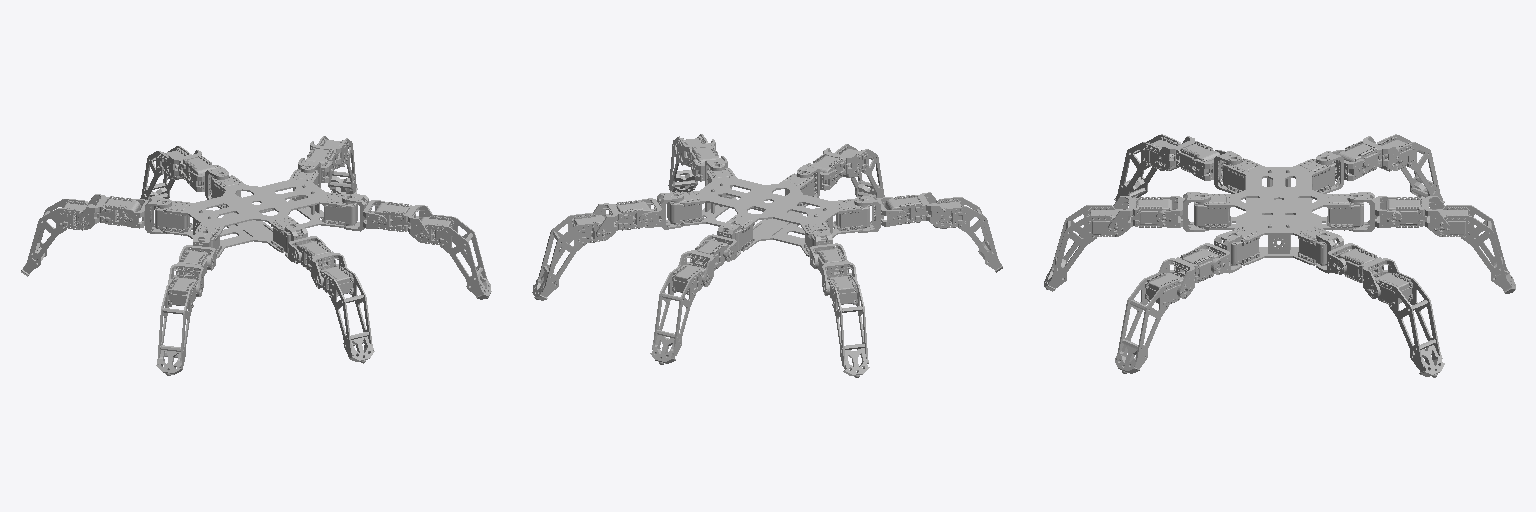
--- Render facts (derived) ---
3 views of the same robot in one strip: view 1: azimuth 30°, elevation 25°; view 2: azimuth 150°, elevation 25°; view 3: azimuth 270°, elevation 25° (orthographic).
Model hexapod with 20 links and 19 joints (18 revolute, 1 fixed), rooted at base, posed every joint at zero.
Visible links, largest first — view 1: torso, RM_foot, RF_foot, RB_foot, LB_foot, RF_calf, LB_calf, LM_foot, RM_calf, LF_foot, LB_thigh, RB_calf (+7 smaller); view 2: torso, LM_foot, LF_foot, LB_foot, RB_foot, LF_calf, RB_calf, RM_foot, LM_calf, RB_thigh, RF_foot, LB_calf (+7 smaller); view 3: torso, LF_foot, RF_foot, LM_foot, RM_foot, LB_foot, RB_foot, RM_calf, LM_calf, RF_calf, LF_calf, LB_calf (+7 smaller).
Boxes of the visible links, <box> form: torso: <box>155,169,357,258</box>; RM_foot: <box>320,266,374,363</box>; RF_foot: <box>421,215,491,299</box>; RB_foot: <box>156,277,197,375</box>; LB_foot: <box>21,199,97,276</box>; RF_calf: <box>374,202,432,242</box>; LB_calf: <box>76,194,139,229</box>; LM_foot: <box>140,146,191,209</box>; RM_calf: <box>297,241,346,288</box>; LF_foot: <box>317,136,357,193</box>; LB_thigh: <box>119,197,171,233</box>; RB_calf: <box>168,250,207,296</box>; torso: <box>667,168,869,256</box>; LM_foot: <box>650,265,705,364</box>; LF_foot: <box>532,213,608,300</box>; LB_foot: <box>828,276,869,377</box>; RB_foot: <box>928,197,1002,272</box>; LF_calf: <box>593,200,651,240</box>; RB_calf: <box>885,192,948,228</box>; RM_foot: <box>835,144,884,205</box>; LM_calf: <box>678,240,728,286</box>; RB_thigh: <box>854,195,906,232</box>; RF_foot: <box>668,134,707,192</box>; LB_calf: <box>817,249,857,295</box>; torso: <box>1194,158,1363,265</box>; LF_foot: <box>1375,272,1444,377</box>; RF_foot: <box>1115,272,1183,373</box>; LM_foot: <box>1435,205,1515,293</box>; RM_foot: <box>1044,205,1122,291</box>; LB_foot: <box>1377,134,1444,206</box>; RB_foot: <box>1114,134,1180,205</box>; RM_calf: <box>1108,196,1172,236</box>; LM_calf: <box>1386,196,1449,236</box>; RF_calf: <box>1158,248,1219,298</box>; LF_calf: <box>1338,248,1398,298</box>; LB_calf: <box>1338,136,1402,173</box>.
Bounding box of the posed robot: 0.5707 × 0.6368 × 0.1445 m (x, y, z).
19 mesh visuals loaded from 19 distinct referenced files (19 OBJ).

robot.urdf — hexapod:
<?xml version="1.0" encoding="utf-8"?>
<robot name="hexapod">
    <link name="base"/>
    <joint name="dummy_joint" type="fixed">
        <origin rpy="1.570796 0 1.570796" xyz="0 0 0"/>
        <parent link="base"/>
        <child link="torso"/>
    </joint>
    <link
    name="torso">
    <inertial>
      <origin
        xyz="0 0 0"
        rpy="0 0 0" />
      <mass
        value="1.025" />
      <inertia
        ixx="0.002323462144782"
        ixy="3.86534870772354E-16"
        ixz="-3.67978622631809E-08"
        iyy="0.003122018499844"
        iyz="-2.05585565888366E-10"
        izz="0.000889001808" />
    </inertial>
    <visual>
      <origin
        xyz="0 0 0"
        rpy="0 0 0" />
      <geometry>
        <mesh
          filename="../meshes/torso.obj" />
      </geometry>
      <material
        name="">
        <color
          rgba="0.752941176470588 0.752941176470588 0.752941176470588 1" />
      </material>
    </visual>
    <collision>
      <origin
        xyz="0 0.017 0"
        rpy="0 0 0" />
      <geometry>
        <box size="0.090 0.035 0.215"/>
      </geometry>
    </collision>
  </link>
  <link
    name="LF_thigh">
    <inertial>
      <origin
        xyz="-0.0189187135333139 0.000478712531283593 -0.0260043189660494"
        rpy="0 0 0" />
      <mass
        value="0.028" />
      <inertia
        ixx="0.7716368555680E-05"
        ixy="-3.58867901756449E-12"
        ixz="1.63311707947920E-10"
        iyy="0.77163683718519E-05"
        iyz="1.53973688531932E-10"
        izz="0.98994457442574E-05" />
    </inertial>
    <visual>
      <origin
        xyz="0 0 0"
        rpy="0 0 0" />
      <geometry>
        <mesh
          filename="../meshes/LF_thigh.obj" />
      </geometry>
      <material
        name="">
        <color
          rgba="0.752941176470588 0.752941176470588 0.752941176470588 1" />
      </material>
    </visual>

  </link>
  <joint
    name="LF1"
    type="revolute">
    <origin
      xyz="0.06091 0 0.12191"
      rpy="2.3562 0 -1.5708" />
    <parent
      link="torso" />
    <child
      link="LF_thigh" />
    <axis
      xyz="1 0 0" />
    <limit
      lower="-1.0"
      upper="1.0"
      effort="1.5"
      velocity="4.31439" />
  </joint>
  <link
    name="LF_calf">
    <inertial>
      <origin
        xyz="0.0011883822058934 -0.0257706902685676 -0.000595468171442112"
        rpy="0 0 0" />
      <mass
        value="0.075" />
      <inertia
        ixx="2.2057805943165E-05"
        ixy="6.42714269148782E-07"
        ixz="-1.73768559657373E-09"
        iyy="1.64333993719858E-05"
        iyz="-2.25537955367849E-07"
        izz="1.53785208661349E-05" />
    </inertial>
    <visual>
      <origin
        xyz="0 0 0"
        rpy="0 0 0" />
      <geometry>
        <mesh
          filename="../meshes/LF_calf.obj" />
      </geometry>
      <material
        name="">
        <color
          rgba="0.752941176470588 0.752941176470588 0.752941176470588 1" />
      </material>
    </visual>
    <collision>
      <origin
        xyz="0 -0.018 0"
        rpy="0 0 0" />
      <geometry>
        <box size="0.027 0.052 0.035"/>
      </geometry>
    </collision>
  </link>
  <joint
    name="LF2"
    type="revolute">
    <origin
      xyz="-0.01844 0 -0.052"
      rpy="1.5708 0 0" />
    <parent
      link="LF_thigh" />
    <child
      link="LF_calf" />
    <axis
      xyz="0 0 1" />
    <limit
      lower="-1.0"
      upper="1.0"
      effort="1.5"
      velocity="4.31439" />
  </joint>
  <link
    name="LF_foot">
    <inertial>
      <origin
        xyz="0.0260368249252049 -0.0404597860340416 -0.000363415281257676"
        rpy="0 0 0" />
      <mass
        value="0.09" />
      <inertia
        ixx="2.4116613548742E-05"
        ixy="1.17280739299485E-05"
        ixz="-1.6483422082338E-09"
        iyy="3.1758057318314E-05"
        iyz="-2.10963891116381E-07"
        izz="4.29929254178485E-05" />
    </inertial>
    <visual>
      <origin
        xyz="0 0 0"
        rpy="0 0 0" />
      <geometry>
        <mesh
          filename="../meshes/LF_foot.obj" />
      </geometry>
      <material
        name="">
        <color
          rgba="0.752941176470588 0.752941176470588 0.752941176470588 1" />
      </material>
    </visual>
    <collision>
      <origin
        xyz="0 -0.018 0"
        rpy="0 0 0" />
      <geometry>
        <box size="0.027 0.052 0.035"/>
      </geometry>
    </collision>
    <collision>
      <origin
        xyz="0.040 -0.055 0"
        rpy="0 0 -0.585" />
      <geometry>
        <box size="0.12 0.008 0.035"/>
      </geometry>
    </collision>
    <collision>
      <origin
        xyz="0.045 -0.077 0"
        rpy="0 0 -0.28" />
      <geometry>
        <box size="0.09 0.008 0.035"/>
      </geometry>
    </collision>
    <collision>
      <origin
        xyz="-0.0025 -0.054 0"
        rpy="0 0 -1.05" />
      <geometry>
        <box size="0.030 0.0085 0.035"/>
      </geometry>
    </collision>
    <collision>
      <origin xyz="0.102 -0.0940 0.0"/>
        <geometry>
            <sphere radius="0.0040"/>
        </geometry>
    </collision>
  </link>
  <joint
    name="LF3"
    type="revolute">
    <origin
      xyz="0.014589 -0.06443 0"
      rpy="0 0 0.003125" />
    <parent
      link="LF_calf" />
    <child
      link="LF_foot" />
    <axis
      xyz="0 0 1" />
    <limit
      lower="-1.0"
      upper="1.0"
      effort="1.5"
      velocity="4.31439" />
  </joint>
  <link
    name="LM_thigh">
    <inertial>
      <origin
        xyz="-0.0189187144776559 0.000478714468876692 -0.0260043724674276"
        rpy="0 0 0" />
      <mass
        value="0.028" />
      <inertia
        ixx="0.7716368555680E-05"
        ixy="-3.58867901756449E-12"
        ixz="1.63311707947920E-10"
        iyy="0.77163683718519E-05"
        iyz="1.53973688531932E-10"
        izz="0.98994457442574E-05" />
    </inertial>
    <visual>
      <origin
        xyz="0 0 0"
        rpy="0 0 0" />
      <geometry>
        <mesh
          filename="../meshes/LM_thigh.obj" />
      </geometry>
      <material
        name="">
        <color
          rgba="0.752941176470588 0.752941176470588 0.752941176470588 1" />
      </material>
    </visual>
  </link>
  <joint
    name="LM1"
    type="revolute">
    <origin
      xyz="0.1035 0 0"
      rpy="1.5708 0 -1.5708" />
    <parent
      link="torso" />
    <child
      link="LM_thigh" />
    <axis
      xyz="1 0 0" />
    <limit
      lower="-1.0"
      upper="1.0"
      effort="1.5"
      velocity="4.31439" />
  </joint>
  <link
    name="LM_calf">
    <inertial>
      <origin
        xyz="0.00118838231960932 -0.025770698950229 -0.000595469030781378"
        rpy="0 0 0" />
      <mass
        value="0.075" />
      <inertia
        ixx="2.2057805943165E-05"
        ixy="6.42714269148782E-07"
        ixz="-1.73768559657373E-09"
        iyy="1.64333993719858E-05"
        iyz="-2.25537955367849E-07"
        izz="1.53785208661349E-05" />
    </inertial>
    <visual>
      <origin
        xyz="0 0 0"
        rpy="0 0 0" />
      <geometry>
        <mesh
          filename="../meshes/LM_calf.obj" />
      </geometry>
      <material
        name="">
        <color
          rgba="0.752941176470588 0.752941176470588 0.752941176470588 1" />
      </material>
    </visual>
    <collision>
      <origin
        xyz="0 -0.018 0"
        rpy="0 0 0" />
      <geometry>
        <box size="0.027 0.052 0.035"/>
      </geometry>
    </collision>
  </link>
  <joint
    name="LM2"
    type="revolute">
    <origin
      xyz="-0.01844 0 -0.052"
      rpy="1.5708 0 0" />
    <parent
      link="LM_thigh" />
    <child
      link="LM_calf" />
    <axis
      xyz="0 0 1" />
    <limit
      lower="-1.0"
      upper="1.0"
      effort="1.5"
      velocity="4.31439" />
  </joint>
  <link
    name="LM_foot">
    <inertial>
      <origin
        xyz="0.0260368352823269 -0.0404597921966018 -0.000363415322185633"
        rpy="0 0 0" />
      <mass
        value="0.09" />
      <inertia
        ixx="2.4116613548742E-05"
        ixy="1.17280739299485E-05"
        ixz="-1.6483422082338E-09"
        iyy="3.1758057318314E-05"
        iyz="-2.10963891116381E-07"
        izz="4.29929254178485E-05" />
    </inertial>
    <visual>
      <origin
        xyz="0 0 0"
        rpy="0 0 0" />
      <geometry>
        <mesh
          filename="../meshes/LM_foot.obj" />
      </geometry>
      <material
        name="">
        <color
          rgba="0.752941176470588 0.752941176470588 0.752941176470588 1" />
      </material>
    </visual>
    <collision>
      <origin
        xyz="0 -0.018 0"
        rpy="0 0 0" />
      <geometry>
        <box size="0.027 0.052 0.035"/>
      </geometry>
    </collision>
    <collision>
      <origin
        xyz="0.040 -0.055 0"
        rpy="0 0 -0.585" />
      <geometry>
        <box size="0.12 0.008 0.035"/>
      </geometry>
    </collision>
    <collision>
      <origin
        xyz="0.045 -0.077 0"
        rpy="0 0 -0.28" />
      <geometry>
        <box size="0.09 0.008 0.035"/>
      </geometry>
    </collision>
    <collision>
      <origin
        xyz="-0.0025 -0.054 0"
        rpy="0 0 -1.05" />
      <geometry>
        <box size="0.030 0.0085 0.035"/>
      </geometry>
    </collision>
    <collision>
      <origin xyz="0.102 -0.0940 0.0"/>
        <geometry>
            <sphere radius="0.0040"/>
        </geometry>
    </collision>
  </link>
  <joint
    name="LM3"
    type="revolute">
    <origin
      xyz="0.014589 -0.06443 0"
      rpy="0 0 0.003125" />
    <parent
      link="LM_calf" />
    <child
      link="LM_foot" />
    <axis
      xyz="0 0 1" />
    <limit
      lower="-1.0"
      upper="1.0"
      effort="1.5"
      velocity="4.31439" />
  </joint>
  <link
    name="LB_thigh">
    <inertial>
      <origin
        xyz="-0.0189187135333139 0.000478712531283773 -0.0260043189660493"
        rpy="0 0 0" />
      <mass
        value="0.028" />
      <inertia
        ixx="0.7716368555680E-05"
        ixy="-3.58867901756449E-12"
        ixz="1.63311707947920E-10"
        iyy="0.77163683718519E-05"
        iyz="1.53973688531932E-10"
        izz="0.98994457442574E-05" />
    </inertial>
    <visual>
      <origin
        xyz="0 0 0"
        rpy="0 0 0" />
      <geometry>
        <mesh
          filename="../meshes/LB_thigh.obj" />
      </geometry>
      <material
        name="">
        <color
          rgba="0.752941176470588 0.752941176470588 0.752941176470588 1" />
      </material>
    </visual>

  </link>
  <joint
    name="LB1"
    type="revolute">
    <origin
      xyz="0.06091 0 -0.12191"
      rpy="0.7854 0 -1.5708" />
    <parent
      link="torso" />
    <child
      link="LB_thigh" />
    <axis
      xyz="1 0 0" />
    <limit
      lower="-1.0"
      upper="1.0"
      effort="1.5"
      velocity="4.31439" />
  </joint>
  <link
    name="LB_calf">
    <inertial>
      <origin
        xyz="0.00118838220589342 -0.0257706902685676 -0.000595468171442057"
        rpy="0 0 0" />
      <mass
        value="0.075" />
      <inertia
        ixx="2.2057805943165E-05"
        ixy="6.42714269148782E-07"
        ixz="-1.73768559657373E-09"
        iyy="1.64333993719858E-05"
        iyz="-2.25537955367849E-07"
        izz="1.53785208661349E-05" />
    </inertial>
    <visual>
      <origin
        xyz="0 0 0"
        rpy="0 0 0" />
      <geometry>
        <mesh
          filename="../meshes/LB_calf.obj" />
      </geometry>
      <material
        name="">
        <color
          rgba="0.752941176470588 0.752941176470588 0.752941176470588 1" />
      </material>
    </visual>
    <collision>
      <origin
        xyz="0 -0.018 0"
        rpy="0 0 0" />
      <geometry>
        <box size="0.027 0.052 0.035"/>
      </geometry>
    </collision>
  </link>
  <joint
    name="LB2"
    type="revolute">
    <origin
      xyz="-0.01844 0 -0.052"
      rpy="1.5708 0 0" />
    <parent
      link="LB_thigh" />
    <child
      link="LB_calf" />
    <axis
      xyz="0 0 1" />
    <limit
      lower="-1.0"
      upper="1.0"
      effort="1.5"
      velocity="4.31439" />
  </joint>
  <link
    name="LB_foot">
    <inertial>
      <origin
        xyz="0.0260368249252049 -0.0404597860340416 -0.000363415281257801"
        rpy="0 0 0" />
      <mass
        value="0.09" />
      <inertia
        ixx="2.4116613548742E-05"
        ixy="1.17280739299485E-05"
        ixz="-1.6483422082338E-09"
        iyy="3.1758057318314E-05"
        iyz="-2.10963891116381E-07"
        izz="4.29929254178485E-05" />
    </inertial>
    <visual>
      <origin
        xyz="0 0 0"
        rpy="0 0 0" />
      <geometry>
        <mesh
          filename="../meshes/LB_foot.obj" />
      </geometry>
      <material
        name="">
        <color
          rgba="0.752941176470588 0.752941176470588 0.752941176470588 1" />
      </material>
    </visual>
    <collision>
      <origin
        xyz="0 -0.018 0"
        rpy="0 0 0" />
      <geometry>
        <box size="0.027 0.052 0.035"/>
      </geometry>
    </collision>
    <collision>
      <origin
        xyz="0.040 -0.055 0"
        rpy="0 0 -0.585" />
      <geometry>
        <box size="0.12 0.008 0.035"/>
      </geometry>
    </collision>
    <collision>
      <origin
        xyz="0.045 -0.077 0"
        rpy="0 0 -0.28" />
      <geometry>
        <box size="0.09 0.008 0.035"/>
      </geometry>
    </collision>
    <collision>
      <origin
        xyz="-0.0025 -0.054 0"
        rpy="0 0 -1.05" />
      <geometry>
        <box size="0.030 0.0085 0.035"/>
      </geometry>
    </collision>
    <collision>
      <origin xyz="0.102 -0.0940 0.0"/>
        <geometry>
            <sphere radius="0.0040"/>
        </geometry>
    </collision>
  </link>
  <joint
    name="LB3"
    type="revolute">
    <origin
      xyz="0.014589 -0.06443 0"
      rpy="0 0 0.003125" />
    <parent
      link="LB_calf" />
    <child
      link="LB_foot" />
    <axis
      xyz="0 0 1" />
    <limit
      lower="-1.0"
      upper="1.0"
      effort="1.5"
      velocity="4.31439" />
  </joint>
  <link
    name="RF_thigh">
    <inertial>
      <origin
        xyz="-0.0189188020479903 0.0004788008459801 0.0260043353596263"
        rpy="0 0 0" />
      <mass
        value="0.028" />
      <inertia
        ixx="0.7716368555680E-05"
        ixy="-3.58867901756449E-12"
        ixz="-1.63311707947920E-10"
        iyy="0.77163683718519E-05"
        iyz="-1.53973688531932E-10"
        izz="0.98994457442574E-05" />
    </inertial>
    <visual>
      <origin
        xyz="0 0 0"
        rpy="0 0 0" />
      <geometry>
        <mesh
          filename="../meshes/RF_thigh.obj" />
      </geometry>
      <material
        name="">
        <color
          rgba="0.752941176470588 0.752941176470588 0.752941176470588 1" />
      </material>
    </visual>

  </link>
  <joint
    name="RF1"
    type="revolute">
    <origin
      xyz="-0.06091 0 0.12191"
      rpy="0.7854 0 -1.5708" />
    <parent
      link="torso" />
    <child
      link="RF_thigh" />
    <axis
      xyz="1 0 0" />
    <limit
      lower="-1.0"
      upper="1.0"
      effort="1.5"
      velocity="4.31439" />
  </joint>
  <link
    name="RF_calf">
    <inertial>
      <origin
        xyz="0.00118839518367737 -0.0257708228212739 0.000595485012719429"
        rpy="0 0 0" />
      <mass
        value="0.075" />
      <inertia
        ixx="2.2057805943165E-05"
        ixy="6.42714269148782E-07"
        ixz="1.73768559657373E-09"
        iyy="1.64333993719858E-05"
        iyz="2.25537955367849E-07"
        izz="1.53785208661349E-05" />
    </inertial>
    <visual>
      <origin
        xyz="0 0 0"
        rpy="0 0 0" />
      <geometry>
        <mesh
          filename="../meshes/RF_calf.obj" />
      </geometry>
      <material
        name="">
        <color
          rgba="0.752941176470588 0.752941176470588 0.752941176470588 1" />
      </material>
    </visual>
    <collision>
      <origin
        xyz="0 -0.018 0"
        rpy="0 0 0" />
      <geometry>
        <box size="0.027 0.052 0.035"/>
      </geometry>
    </collision>
  </link>
  <joint
    name="RF2"
    type="revolute">
    <origin
      xyz="-0.01844 0 0.052"
      rpy="-1.5708 0 0" />
    <parent
      link="RF_thigh" />
    <child
      link="RF_calf" />
    <axis
      xyz="0 0 1" />
    <limit
      lower="-1.0"
      upper="1.0"
      effort="1.5"
      velocity="4.31439" />
  </joint>
  <link
    name="RF_foot">
    <inertial>
      <origin
        xyz="0.025152401746314 -0.0399190614070512 0.000363400913231504"
        rpy="0 0 0" />
      <mass
        value="0.09" />
      <inertia
        ixx="2.4116613548742E-05"
        ixy="1.17280739299485E-05"
        ixz="1.6483422082338E-09"
        iyy="3.1758057318314E-05"
        iyz="2.10963891116381E-07"
        izz="4.29929254178485E-05" />
    </inertial>
    <visual>
      <origin
        xyz="0 0 0"
        rpy="0 0 0" />
      <geometry>
        <mesh
          filename="../meshes/RF_foot.obj" />
      </geometry>
      <material
        name="">
        <color
          rgba="0.752941176470588 0.752941176470588 0.752941176470588 1" />
      </material>
    </visual>
    <collision>
      <origin
        xyz="0 -0.018 0"
        rpy="0 0 0" />
      <geometry>
        <box size="0.027 0.052 0.035"/>
      </geometry>
    </collision>
    <collision>
      <origin
        xyz="0.040 -0.055 0"
        rpy="0 0 -0.585" />
      <geometry>
        <box size="0.12 0.008 0.035"/>
      </geometry>
    </collision>
    <collision>
      <origin
        xyz="0.045 -0.077 0"
        rpy="0 0 -0.28" />
      <geometry>
        <box size="0.09 0.008 0.035"/>
      </geometry>
    </collision>
    <collision>
      <origin
        xyz="-0.0025 -0.054 0"
        rpy="0 0 -1.05" />
      <geometry>
        <box size="0.030 0.0085 0.035"/>
      </geometry>
    </collision>
    <collision>
      <origin xyz="0.0965 -0.0935 0.0"/>
        <geometry>
            <sphere radius="0.0040"/>
        </geometry>
    </collision>
  </link>
  <joint
    name="RF3"
    type="revolute">
    <origin
      xyz="0.014589 -0.06443 0"
      rpy="0 0 0.003125" />
    <parent
      link="RF_calf" />
    <child
      link="RF_foot" />
    <axis
      xyz="0 0 1" />
    <limit
      lower="-1.0"
      upper="1.0"
      effort="1.5"
      velocity="4.31439" />
  </joint>
  <link
    name="RM_thigh">
    <inertial>
      <origin
        xyz="-0.0189188023390825 0.000478802347846598 0.0260043723573318"
        rpy="0 0 0" />
      <mass
        value="0.028" />
      <inertia
        ixx="0.7716368555680E-05"
        ixy="-3.58867901756449E-12"
        ixz="-1.63311707947920E-10"
        iyy="0.77163683718519E-05"
        iyz="-1.53973688531932E-10"
        izz="0.98994457442574E-05" />
    </inertial>
    <visual>
      <origin
        xyz="0 0 0"
        rpy="0 0 0" />
      <geometry>
        <mesh
          filename="../meshes/RM_thigh.obj" />
      </geometry>
      <material
        name="">
        <color
          rgba="0.752941176470588 0.752941176470588 0.752941176470588 1" />
      </material>
    </visual>
   
  </link>
  <joint
    name="RM1"
    type="revolute">
    <origin
      xyz="-0.1035 0 0"
      rpy="1.5708 0 -1.5708" />
    <parent
      link="torso" />
    <child
      link="RM_thigh" />
    <axis
      xyz="1 0 0" />
    <limit
      lower="-1.0"
      upper="1.0"
      effort="1.5"
      velocity="4.31439" />
  </joint>
  <link
    name="RM_calf">
    <inertial>
      <origin
        xyz="0.00118839539756592 -0.0257708287030725 0.000595485605075673"
        rpy="0 0 0" />
      <mass
        value="0.075" />
      <inertia
        ixx="2.2057805943165E-05"
        ixy="6.42714269148782E-07"
        ixz="1.73768559657373E-09"
        iyy="1.64333993719858E-05"
        iyz="2.25537955367849E-07"
        izz="1.53785208661349E-05" />
    </inertial>
    <visual>
      <origin
        xyz="0 0 0"
        rpy="0 0 0" />
      <geometry>
        <mesh
          filename="../meshes/RM_calf.obj" />
      </geometry>
      <material
        name="">
        <color
          rgba="0.752941176470588 0.752941176470588 0.752941176470588 1" />
      </material>
    </visual>
    <collision>
      <origin
        xyz="0 -0.018 0"
        rpy="0 0 0" />
      <geometry>
        <box size="0.027 0.052 0.035"/>
      </geometry>
    </collision>
  </link>
  <joint
    name="RM2"
    type="revolute">
    <origin
      xyz="-0.01844 0 0.052"
      rpy="-1.5708 0 0" />
    <parent
      link="RM_thigh" />
    <child
      link="RM_calf" />
    <axis
      xyz="0 0 1" />
    <limit
      lower="-1.0"
      upper="1.0"
      effort="1.5"
      velocity="4.31439" />
  </joint>
  <link
    name="RM_foot">
    <inertial>
      <origin
        xyz="0.0251524065902219 -0.0399190635592102 0.00036340086753898"
        rpy="0 0 0" />
      <mass
        value="0.09" />
      <inertia
        ixx="2.4116613548742E-05"
        ixy="1.17280739299485E-05"
        ixz="1.6483422082338E-09"
        iyy="3.1758057318314E-05"
        iyz="2.10963891116381E-07"
        izz="4.29929254178485E-05" />
    </inertial>
    <visual>
      <origin
        xyz="0 0 0"
        rpy="0 0 0" />
      <geometry>
        <mesh
          filename="../meshes/RM_foot.obj" />
      </geometry>
      <material
        name="">
        <color
          rgba="0.752941176470588 0.752941176470588 0.752941176470588 1" />
      </material>
    </visual>
    <collision>
      <origin
        xyz="0 -0.018 0"
        rpy="0 0 0" />
      <geometry>
        <box size="0.027 0.052 0.035"/>
      </geometry>
    </collision>
    <collision>
      <origin
        xyz="0.040 -0.055 0"
        rpy="0 0 -0.585" />
      <geometry>
        <box size="0.12 0.008 0.035"/>
      </geometry>
    </collision>
    <collision>
      <origin
        xyz="0.045 -0.077 0"
        rpy="0 0 -0.28" />
      <geometry>
        <box size="0.09 0.008 0.035"/>
      </geometry>
    </collision>
    <collision>
      <origin
        xyz="-0.0025 -0.054 0"
        rpy="0 0 -1.05" />
      <geometry>
        <box size="0.030 0.0085 0.035"/>
      </geometry>
    </collision>
    <collision>
      <origin xyz="0.0965 -0.0935 0.0"/>
        <geometry>
            <sphere radius="0.0040"/>
        </geometry>
    </collision>
  </link>
  <joint
    name="RM3"
    type="revolute">
    <origin
      xyz="0.014589 -0.06443 0"
      rpy="0 0 0.003125" />
    <parent
      link="RM_calf" />
    <child
      link="RM_foot" />
    <axis
      xyz="0 0 1" />
    <limit
      lower="-1.0"
      upper="1.0"
      effort="1.5"
      velocity="4.31439" />
  </joint>
  <link
    name="RB_thigh">
    <inertial>
      <origin
        xyz="-0.0189188020479903 0.000478800845980197 0.0260043353596263"
        rpy="0 0 0" />
      <mass
        value="0.028" />
      <inertia
        ixx="0.7716368555680E-05"
        ixy="-3.58867901756449E-12"
        ixz="-1.63311707947920E-10"
        iyy="0.77163683718519E-05"
        iyz="-1.53973688531932E-10"
        izz="0.98994457442574E-05" />
    </inertial>
    <visual>
      <origin
        xyz="0 0 0"
        rpy="0 0 0" />
      <geometry>
        <mesh
          filename="../meshes/RB_thigh.obj" />
      </geometry>
      <material
        name="">
        <color
          rgba="0.752941176470588 0.752941176470588 0.752941176470588 1" />
      </material>
    </visual>
   
  </link>
  <joint
    name="RB1"
    type="revolute">
    <origin
      xyz="-0.06091 0 -0.12191"
      rpy="2.3562 0 -1.5708" />
    <parent
      link="torso" />
    <child
      link="RB_thigh" />
    <axis
      xyz="1 0 0" />
    <limit
      lower="-1.0"
      upper="1.0"
      effort="1.5"
      velocity="4.31439" />
  </joint>
  <link
    name="RB_calf">
    <inertial>
      <origin
        xyz="0.00118839518367737 -0.0257708228212741 0.000595485012719332"
        rpy="0 0 0" />
      <mass
        value="0.075" />
      <inertia
        ixx="2.2057805943165E-05"
        ixy="6.42714269148782E-07"
        ixz="1.73768559657373E-09"
        iyy="1.64333993719858E-05"
        iyz="2.25537955367849E-07"
        izz="1.53785208661349E-05" />
    </inertial>
    <visual>
      <origin
        xyz="0 0 0"
        rpy="0 0 0" />
      <geometry>
        <mesh
          filename="../meshes/RB_calf.obj" />
      </geometry>
      <material
        name="">
        <color
          rgba="0.752941176470588 0.752941176470588 0.752941176470588 1" />
      </material>
    </visual>
    <collision>
      <origin
        xyz="0 -0.018 0"
        rpy="0 0 0" />
      <geometry>
        <box size="0.027 0.052 0.035"/>
      </geometry>
    </collision>
  </link>
  <joint
    name="RB2"
    type="revolute">
    <origin
      xyz="-0.01844 0 0.052"
      rpy="-1.5708 0 0" />
    <parent
      link="RB_thigh" />
    <child
      link="RB_calf" />
    <axis
      xyz="0 0 1" />
    <limit
      lower="-1.0"
      upper="1.0"
      effort="1.5"
      velocity="4.31439" />
  </joint>
  <link
    name="RB_foot">
    <inertial>
      <origin
        xyz="0.025152401746314 -0.0399190614070511 0.000363400913231143"
        rpy="0 0 0" />
      <mass
        value="0.09" />
      <inertia
        ixx="2.4116613548742E-05"
        ixy="1.17280739299485E-05"
        ixz="1.6483422082338E-09"
        iyy="3.1758057318314E-05"
        iyz="2.10963891116381E-07"
        izz="4.29929254178485E-05" />
    </inertial>
    <visual>
      <origin
        xyz="0 0 0"
        rpy="0 0 0" />
      <geometry>
        <mesh
          filename="../meshes/RB_foot.obj" />
      </geometry>
      <material
        name="">
        <color
          rgba="0.752941176470588 0.752941176470588 0.752941176470588 1" />
      </material>
    </visual>
    <collision>
      <origin
        xyz="0 -0.018 0"
        rpy="0 0 0" />
      <geometry>
        <box size="0.027 0.052 0.035"/>
      </geometry>
    </collision>
    <collision>
      <origin
        xyz="0.040 -0.055 0"
        rpy="0 0 -0.585" />
      <geometry>
        <box size="0.12 0.008 0.035"/>
      </geometry>
    </collision>
    <collision>
      <origin
        xyz="0.045 -0.077 0"
        rpy="0 0 -0.28" />
      <geometry>
        <box size="0.09 0.008 0.035"/>
      </geometry>
    </collision>
    <collision>
      <origin
        xyz="-0.0025 -0.054 0"
        rpy="0 0 -1.05" />
      <geometry>
        <box size="0.030 0.0085 0.035"/>
      </geometry>
    </collision>
    <collision>
      <origin xyz="0.0965 -0.0935 0.0"/>
        <geometry>
            <sphere radius="0.0040"/>
        </geometry>
    </collision>
  </link>
  <joint
    name="RB3"
    type="revolute">
    <origin
      xyz="0.014589 -0.06443 0"
      rpy="0 0 0.003125" />
    <parent
      link="RB_calf" />
    <child
      link="RB_foot" />
    <axis
      xyz="0 0 1" />
    <limit
      lower="-1.0"
      upper="1.0"
      effort="1.5"
      velocity="4.31439" />
  </joint>
</robot>
